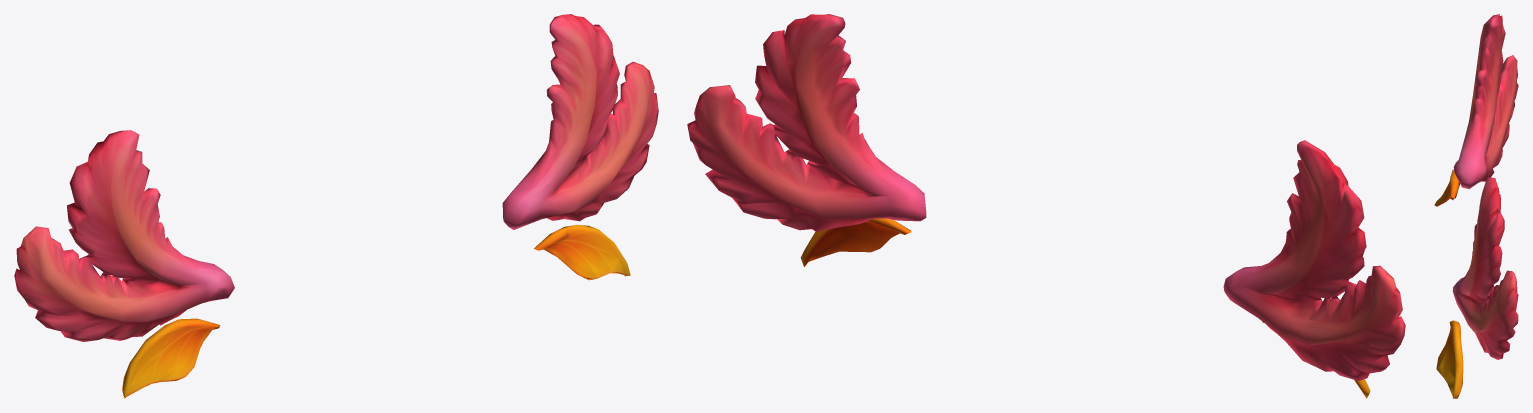
The model's file is CoralAxolotlWear.fbx.
3 renders of one model, left to right at view 1: azimuth 30°, elevation 25°; view 2: azimuth 150°, elevation 25°; view 3: azimuth 270°, elevation 25°, orthographic. The views are drawn at different scales.
Parts seen in each view (by area): view 1: GillR, GillL, LeafR, LeafL; view 2: GillL, GillR, LeafL; view 3: GillL, GillR, LeafL, LeafR.
Boxes of the visible parts, box(x1,y1,x2,y2) form: GillR: box(14, 130, 234, 341); GillL: box(502, 14, 658, 229); LeafR: box(122, 318, 220, 398); LeafL: box(534, 224, 630, 280); GillL: box(687, 14, 926, 231); GillR: box(1223, 140, 1405, 380); LeafL: box(800, 218, 911, 266); GillL: box(1452, 177, 1518, 359); GillR: box(1453, 14, 1518, 189); LeafL: box(1436, 320, 1463, 398); LeafR: box(1434, 169, 1459, 206).
Size of the model in its own units: 1.7 by 0.6407 by 0.2409.
1 material, 1 textured.
